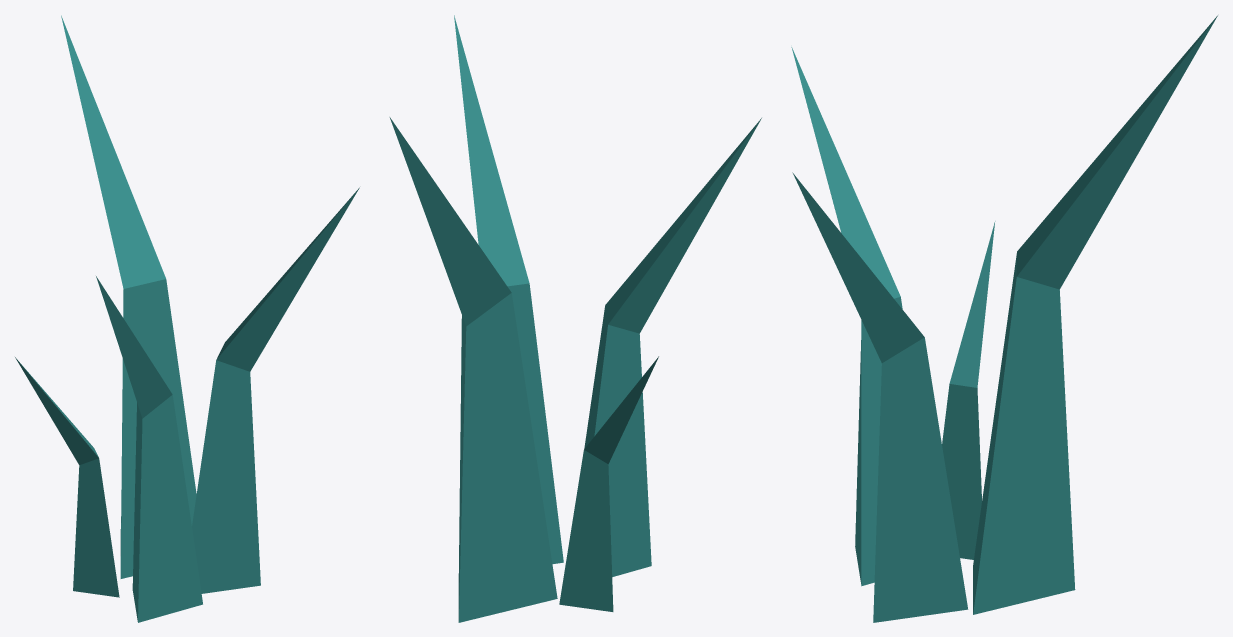
Rendered from Grass_4_Blue.fbx.
The picture shows the model from 3 angles, left to right: view 1: azimuth 30°, elevation 25°; view 2: azimuth 150°, elevation 25°; view 3: azimuth 270°, elevation 25°; orthographic projection. The views are drawn at different scales.
Parts seen in each view (by area): view 1: Grass_4_Blue; view 2: Grass_4_Blue; view 3: Grass_4_Blue.
Part boxes in pixels (box(x1,y1,x2,y2)): Grass_4_Blue: box(15, 15, 359, 622); Grass_4_Blue: box(389, 15, 761, 622); Grass_4_Blue: box(791, 15, 1217, 622).
Bounding box in the file's own units: 16.21 × 28.02 × 18.86.
